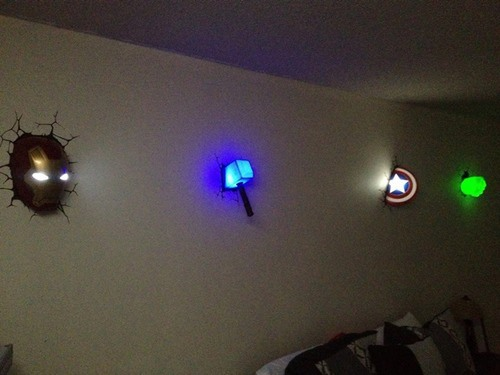THOR Hammer: (215, 153, 269, 223)
